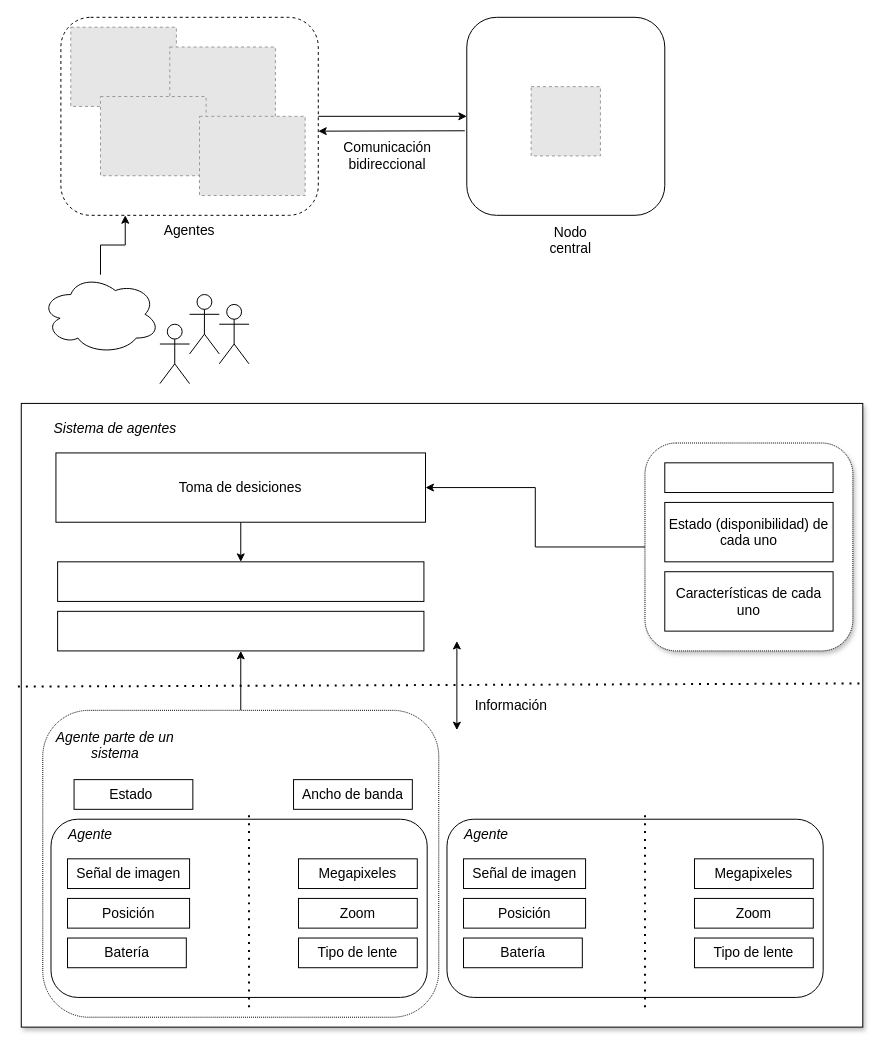
This 886x1051 diagram has some shape labels left out. Grey dashed boxes stand in for pictures. Each missing label, with the centre of its shape:
Cantidad de agentes: the point at 748,477
Entorno: the point at 100,314
Mapa de posiciones: the point at 240,630
Transmisión de información: the point at 240,581
